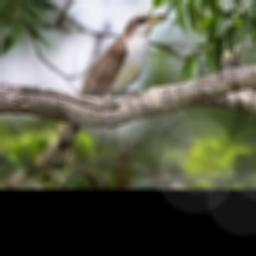Cuckoo: (43, 13, 169, 181)
